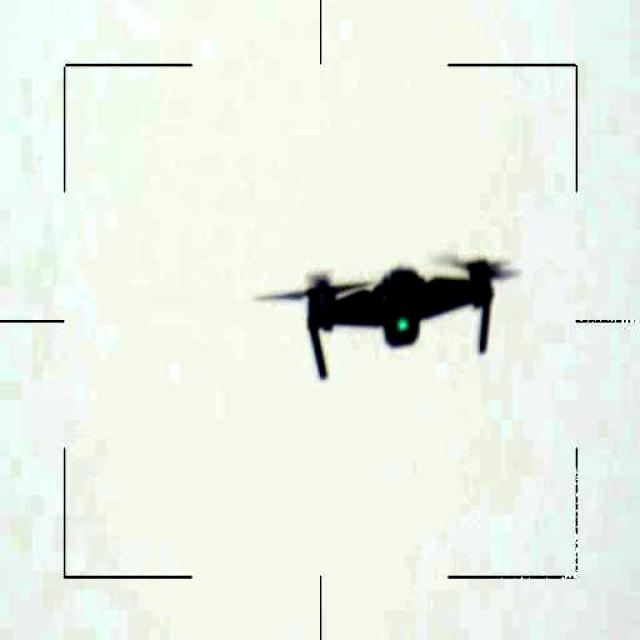bird: (260, 235, 541, 380)
